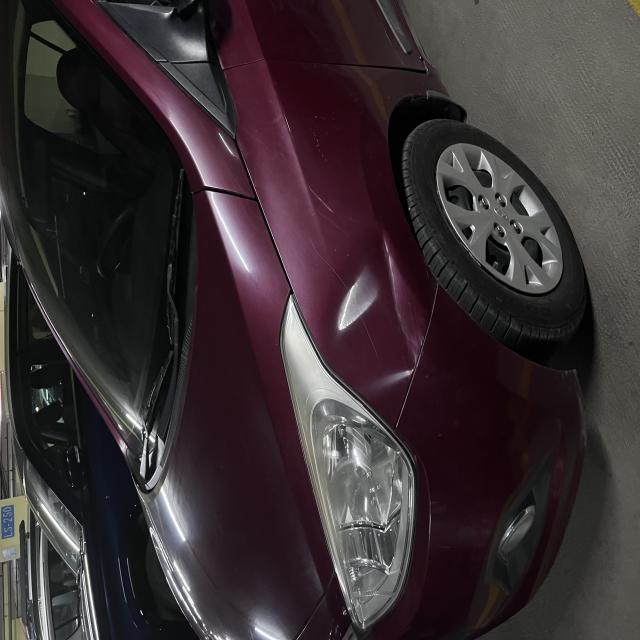scratch: (196, 406, 391, 506)
